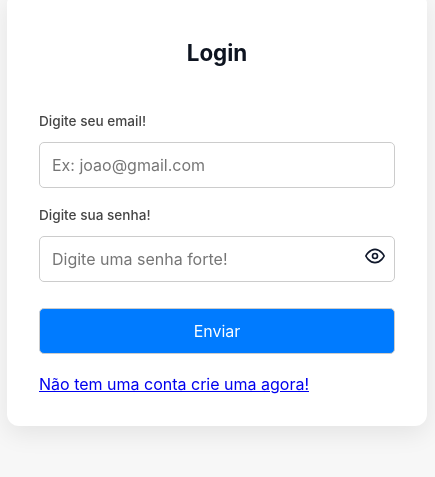
Scenario: when the input are invalids › should display the error message when the password is invalid
Type "lucas@gmail.com" into the field with placeholder "Ex: joao@gmail.com" at (217, 165), box [39,142,395,188]
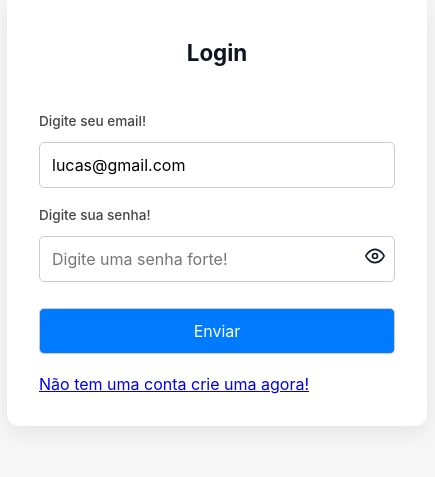
Type "1" into the password field with placeholder "Digite uma senha forte!" at (217, 259), box [39,236,395,282]
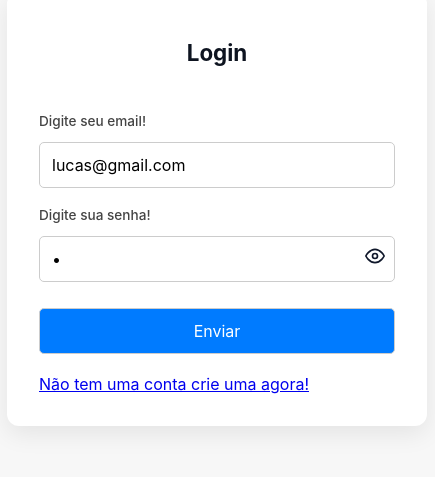
Click the button "Enviar" at (217, 331), box [39,308,395,354]
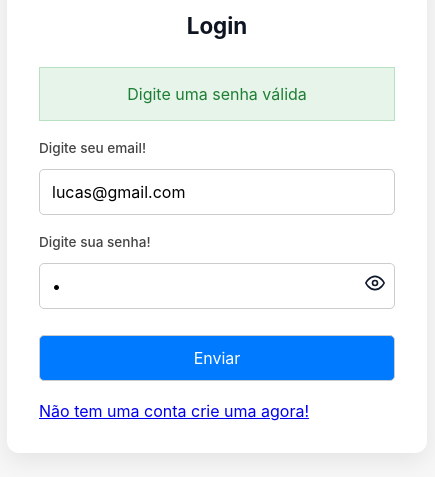
Expected: the text "Digite uma senha válida" is shown, [127,84,307,104]
